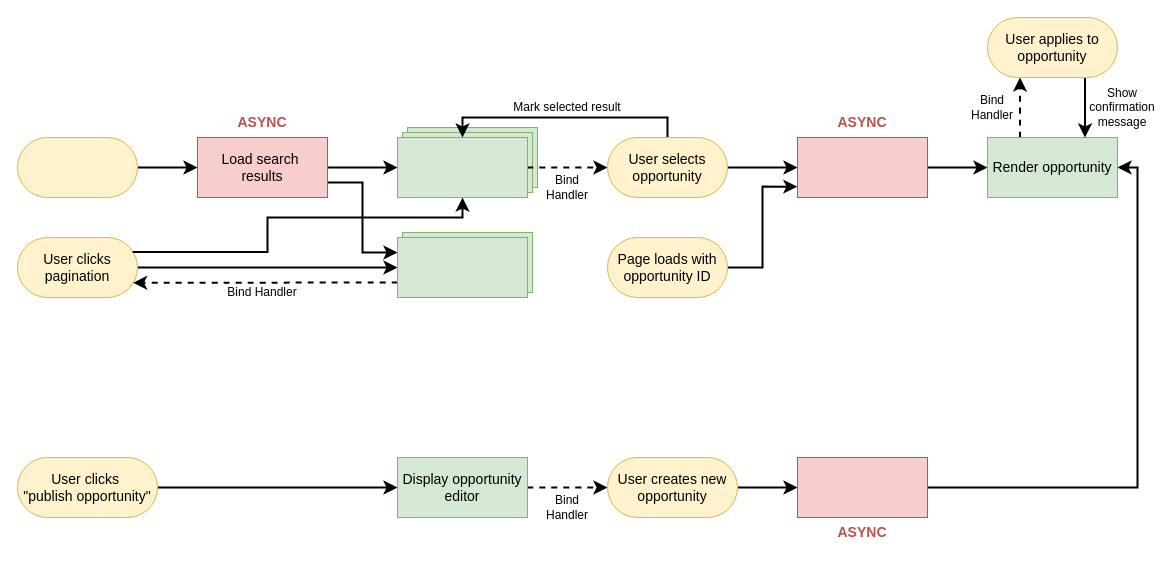
Image size: 1175x565. Some labels were removed from this diagram. The shapes that lost their labels are listed below. From the top down, each one's centre as x and y in pixels, then its label:
[77,167]: User searches
[462,167]: Render search results
[862,167]: Load opportunity
[462,267]: Render pagination buttons
[862,487]: Upload opportunity
